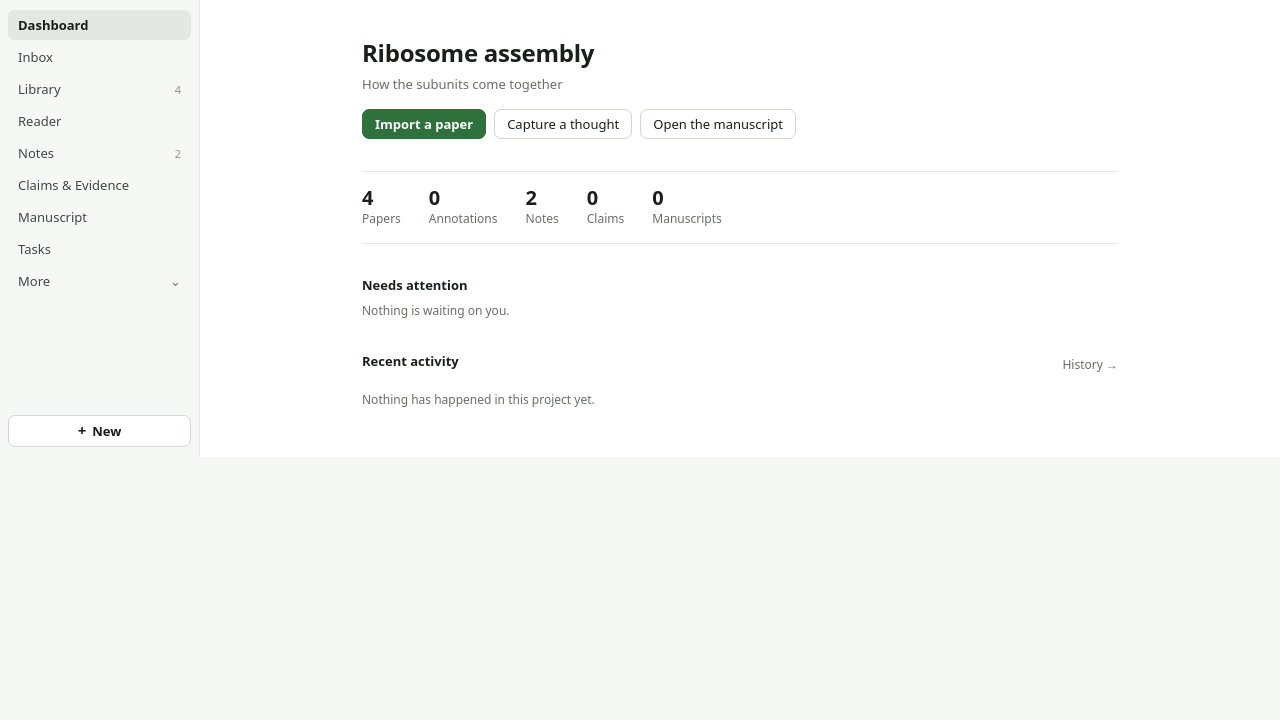
Test: the rail › navigates to a page rather than opening it in a tab
The width and height of the screenshot is (1280, 720).
Click the button with aria-label "More pages": click(100, 281) [8,266,191,296]
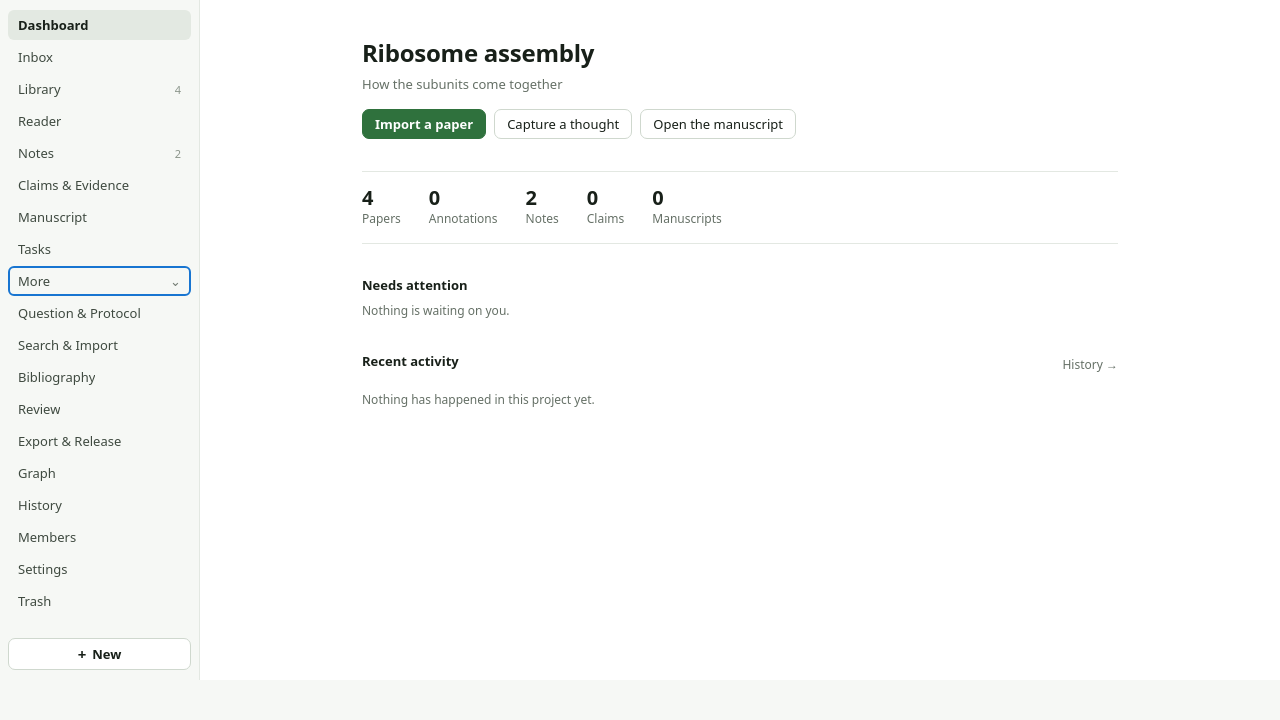
Click the button "Search & Import": click(100, 345) [8,330,191,360]
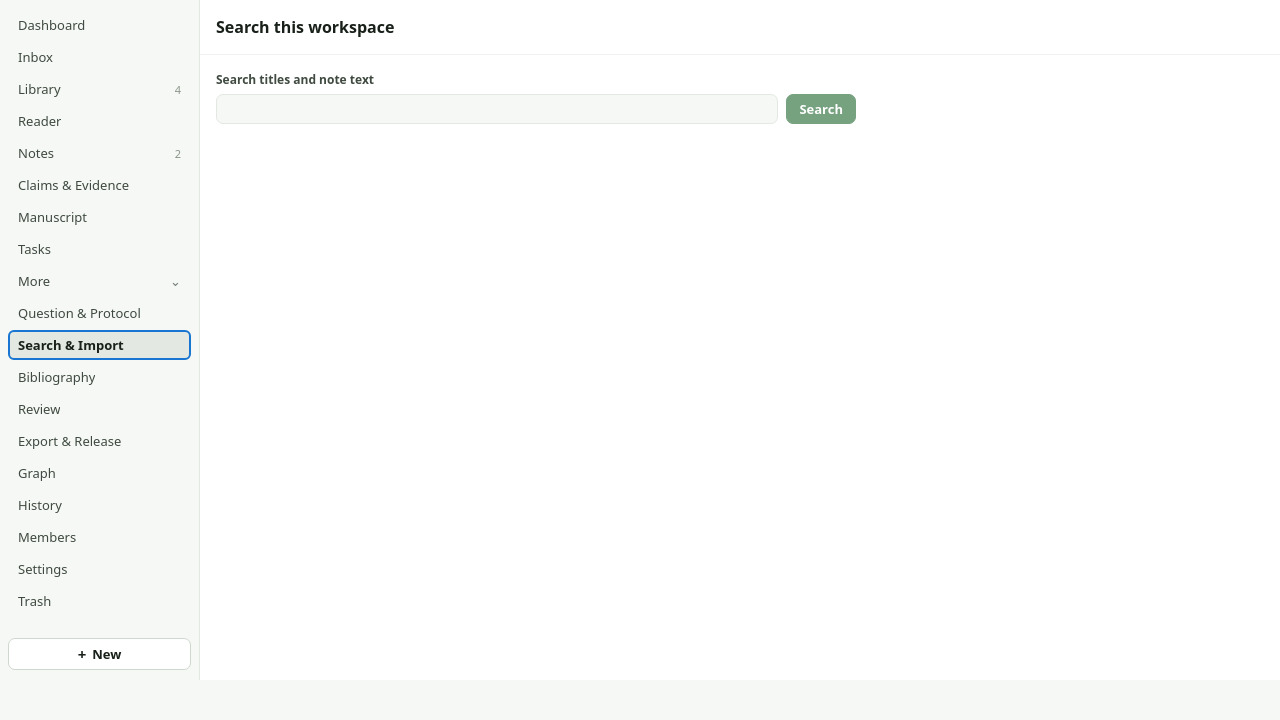
Expected: the search field is shown, [216,94,778,124]
